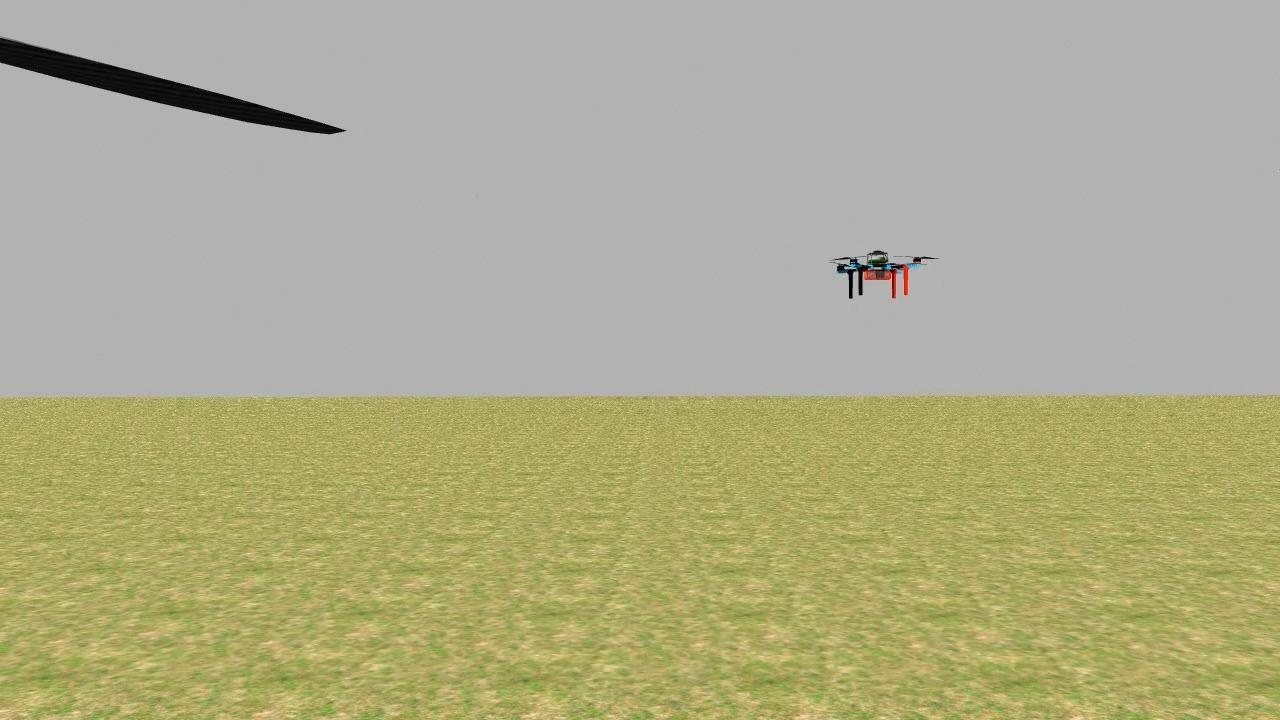UAV: (826, 244, 932, 314)
